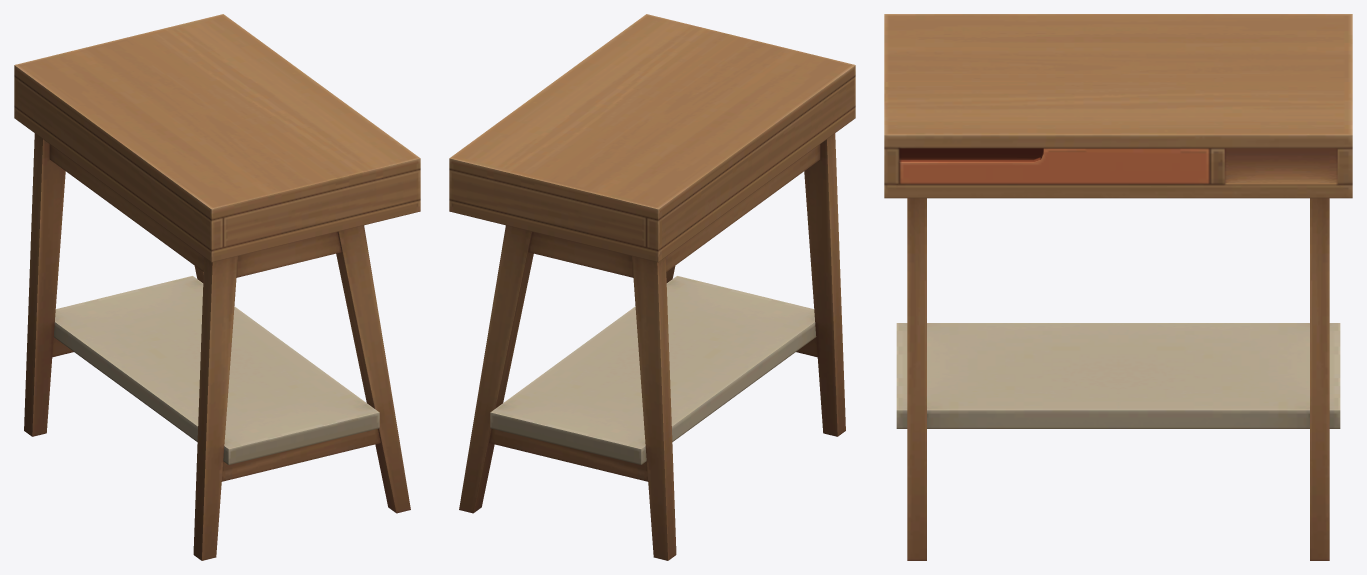
Rendered from 玄关柜.glb.
3 views of the same model, side by side, from view 1: azimuth 30°, elevation 25°; view 2: azimuth 150°, elevation 25°; view 3: azimuth 270°, elevation 25° (orthographic). The views are drawn at different scales.
Visible parts, largest first — view 1: TinyLiving_TinyConsole_44; view 2: TinyLiving_TinyConsole_44; view 3: TinyLiving_TinyConsole_44.
Part boxes in pixels (left/top/right/bottom): TinyLiving_TinyConsole_44: left=14, top=14, right=420, bottom=560; TinyLiving_TinyConsole_44: left=449, top=14, right=855, bottom=560; TinyLiving_TinyConsole_44: left=884, top=14, right=1352, bottom=560.
Size of the model in its own units: 0.48 by 0.7866 by 0.784.
1 material, 1 textured.
